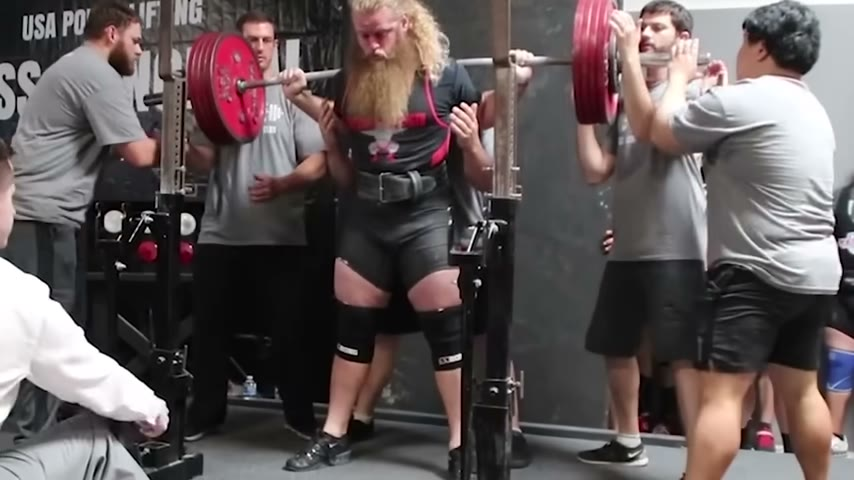barbell_plate_side: (187, 16, 299, 155)
